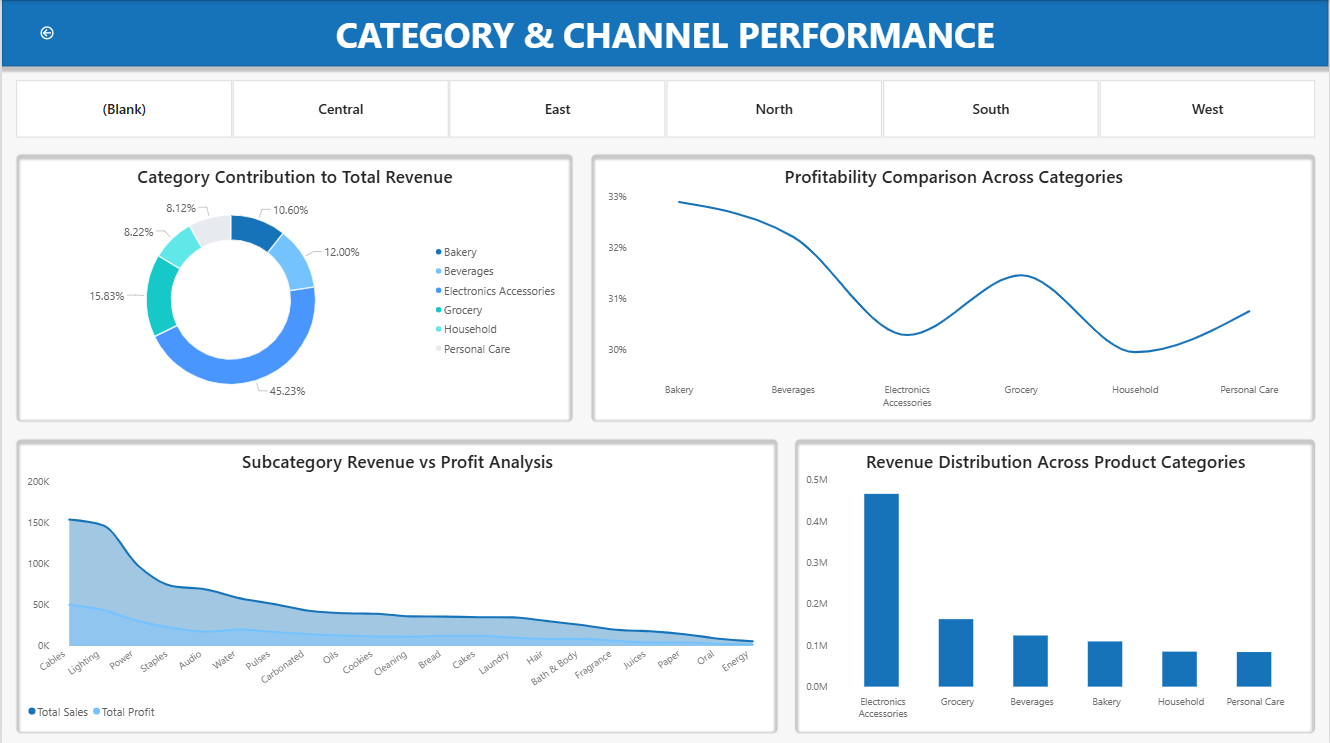

This screenshot's page, from the dashboard's own definition file:
{"tool":"powerbi","page":{"name":"Category & Channel Performance","canvas":[1920,1080],"ordinal":1},"visuals":[{"type":"shape","box":[0,0,1920.1,95.9],"z":0},{"type":"areaChart","title":"Subcategory Revenue vs Profit Analysis","fields":{"Category":["Dim_Products.SubCategory"],"Y":["Measure.Total Sales","Measure.Total Profit"]},"box":[19.9,635.2,1103.9,427.1],"z":1000},{"type":"columnChart","title":"Revenue Distribution Across Product Categories","fields":{"Category":["Dim_Products.Category"],"Y":["Measure.Total Sales"]},"box":[1147.3,635.2,754.6,427.1],"z":2000},{"type":"slicer","fields":{"Values":["Dim_Stores.Region"]},"box":[0,114,1920.1,86.9],"z":3000},{"type":"donutChart","title":"Category Contribution to Total Revenue","fields":{"Series":["Dim_Products.Category"],"Y":["Measure.Sales Contribution %"]},"box":[19.9,222.6,807.1,389.1],"z":4000},{"type":"lineChart","title":"Profitability Comparison Across Categories","fields":{"Category":["Dim_Products.Category","Dim_Products.SubCategory"],"Y":["Measure.Profit Margin %"]},"box":[852.4,222.6,1049.6,389.1],"z":5000},{"type":"actionButton","box":[0,0,130.3,95.9],"z":6000}]}

Visuals, with their boxes in screenshot pixels (x1, y1, x2, y2), scaled from the page's 1920x1080 canvas onto the 1330x743 screenshot:
shape: BBox(0, 0, 1329, 66)
"Subcategory Revenue vs Profit Analysis" areaChart: BBox(14, 437, 778, 731)
"Revenue Distribution Across Product Categories" columnChart: BBox(795, 437, 1317, 731)
slicer - Dim_Stores.Region: BBox(0, 78, 1329, 138)
"Category Contribution to Total Revenue" donutChart: BBox(14, 153, 573, 421)
"Profitability Comparison Across Categories" lineChart: BBox(590, 153, 1318, 421)
actionButton: BBox(0, 0, 90, 66)
